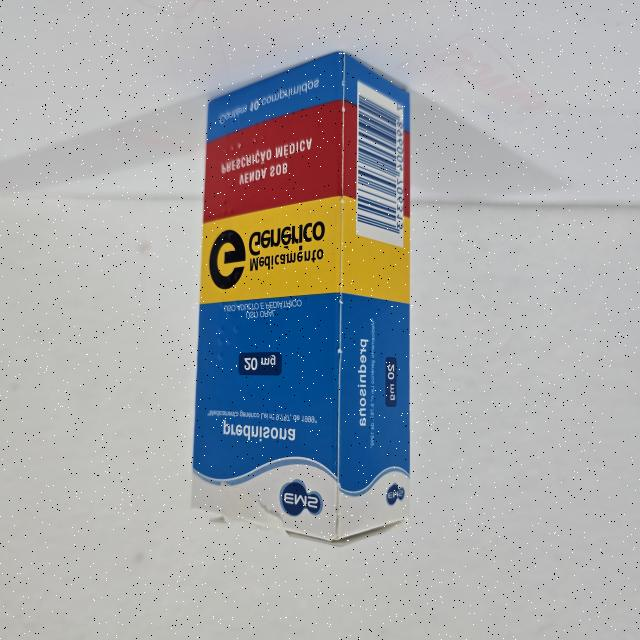prednisona: (186, 44, 415, 552)
